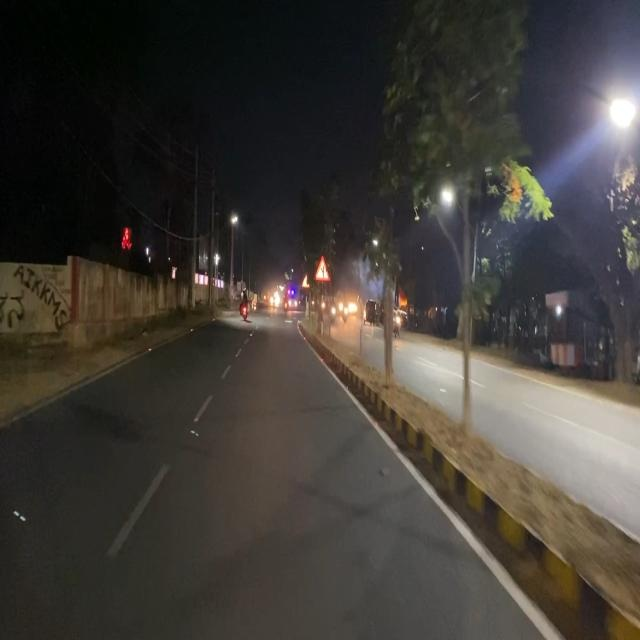bien_nguy_hiem: (314, 254, 330, 284)
